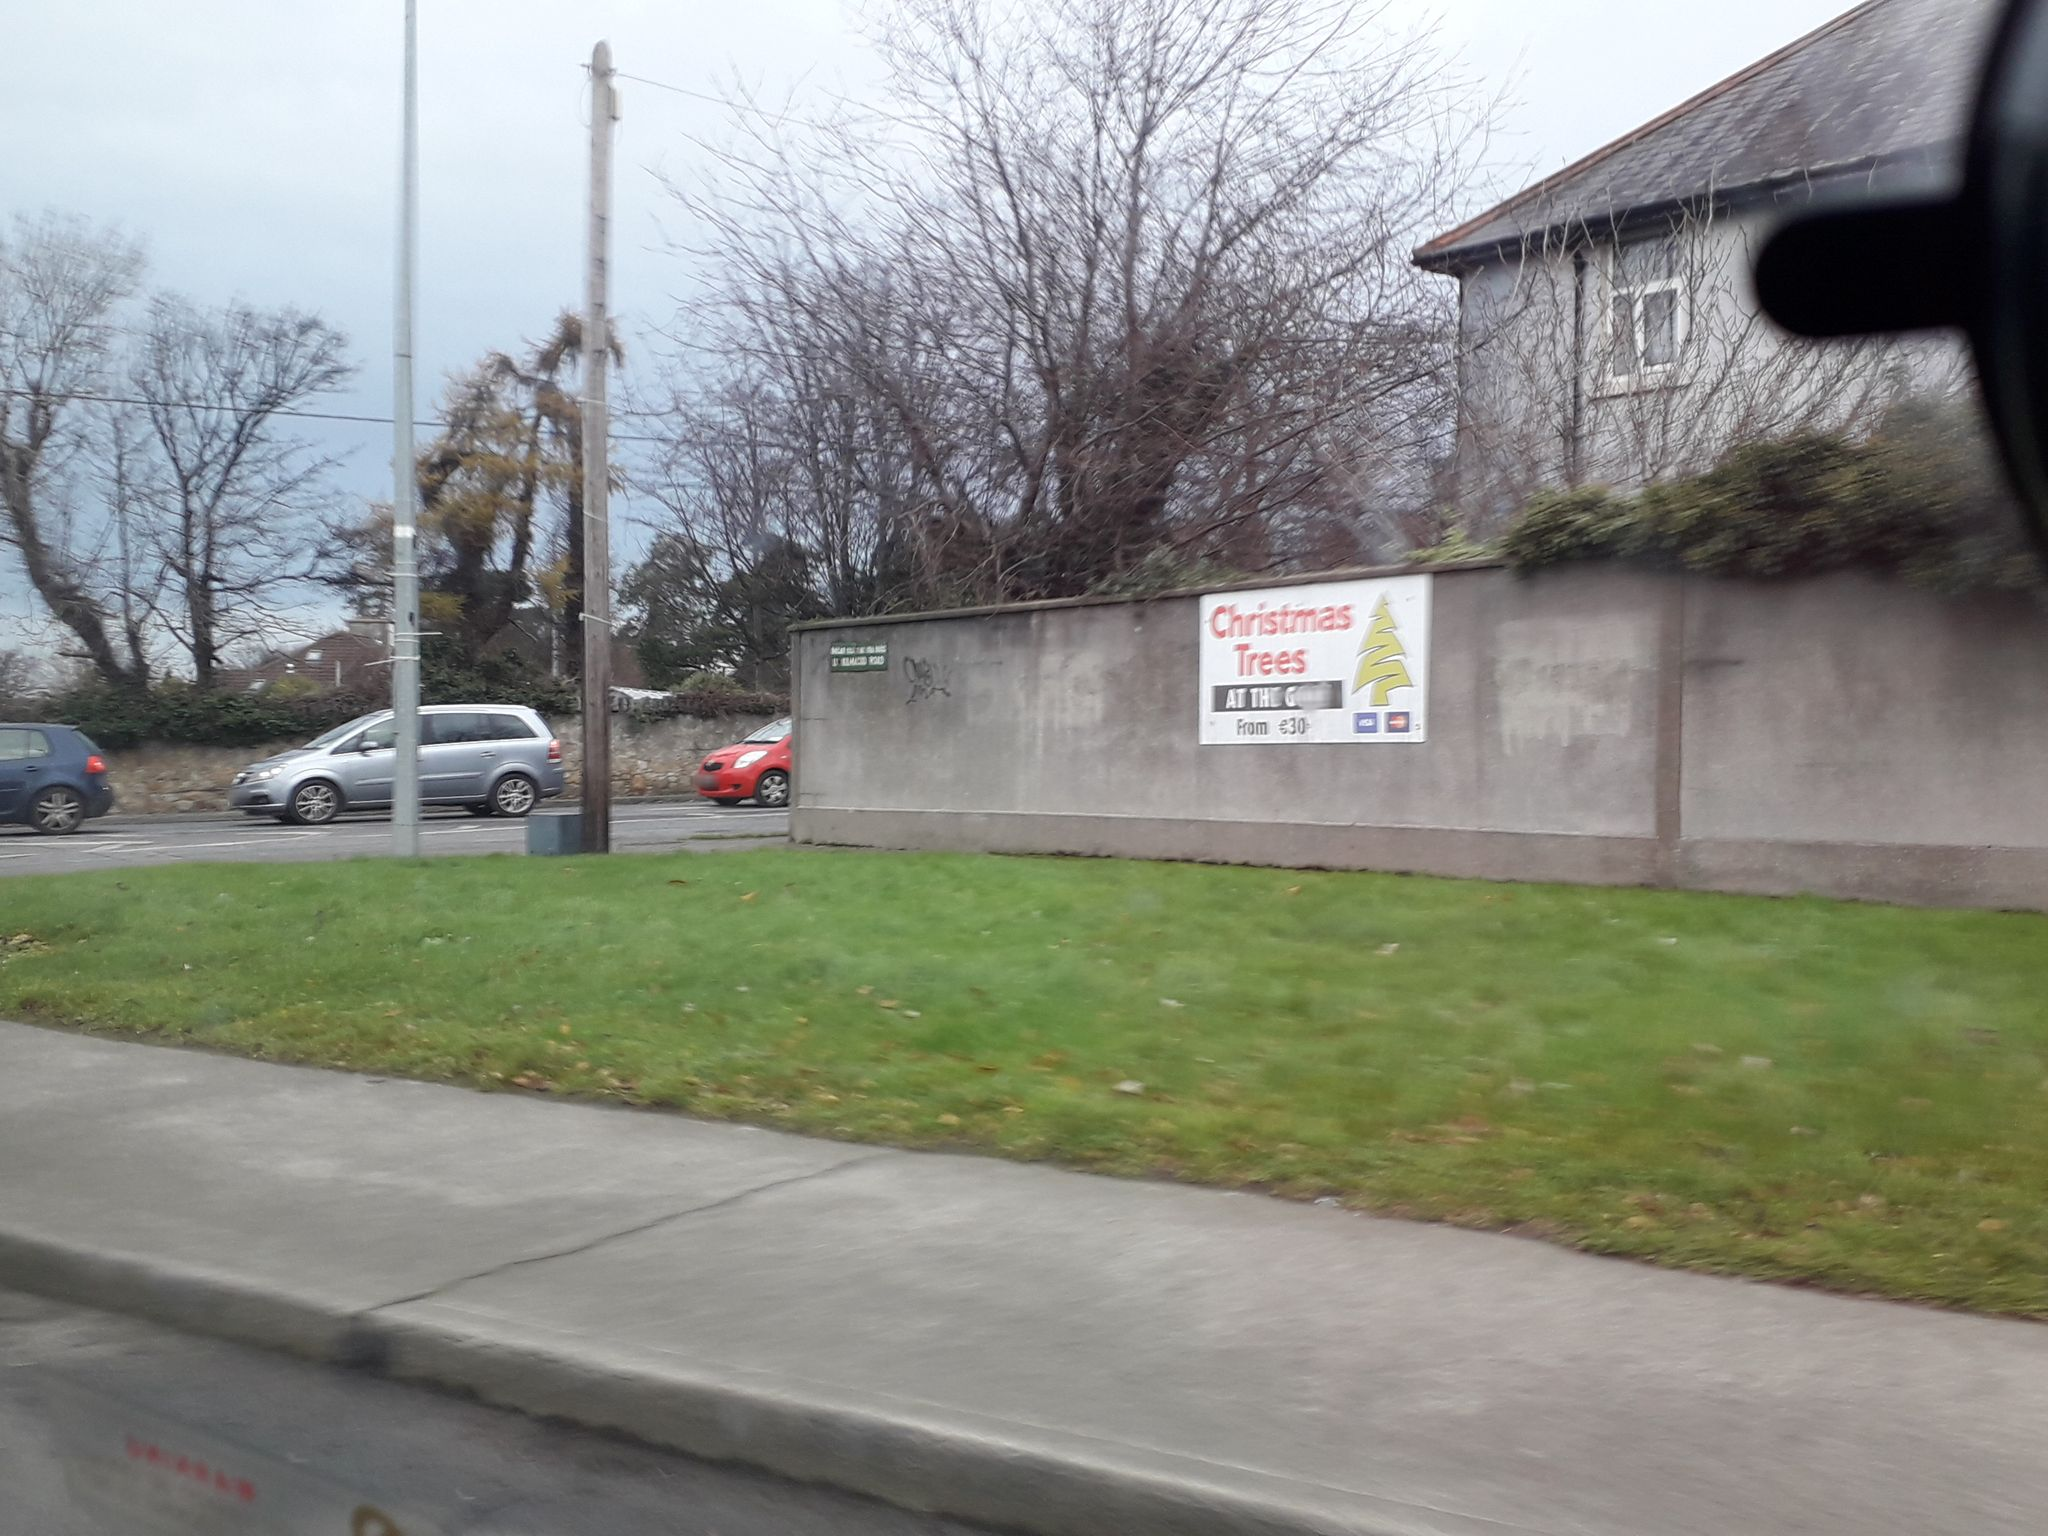vinyl banner: (1192, 561, 1442, 758)
